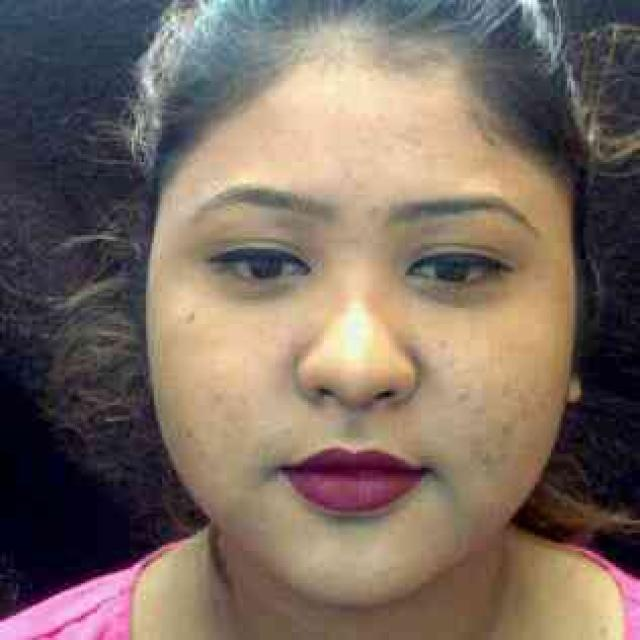puffy_eyes: (405, 281, 492, 307), (216, 278, 313, 301)
